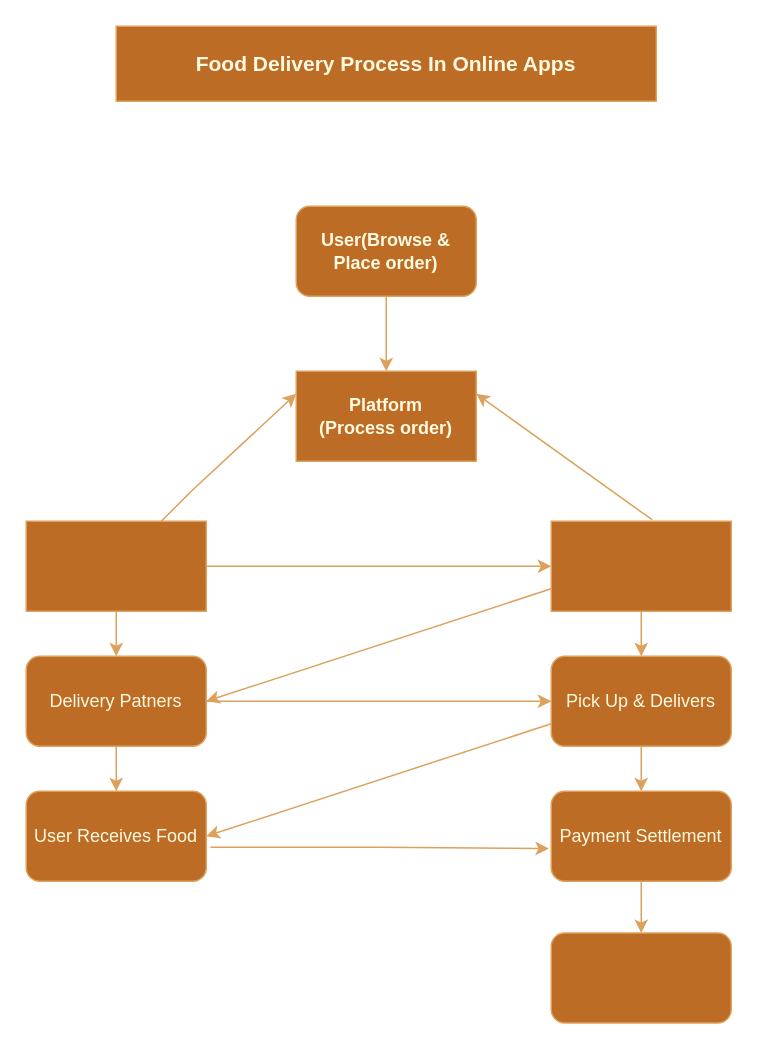
Some shapes in this 758 by 1050 pixel diagram are drawn without their labels. Each missing label, with the box of its shape:
Feedback: (550, 932, 731, 1023)
Prepare Food: (550, 520, 731, 611)
Restaurants: (25, 520, 206, 611)
